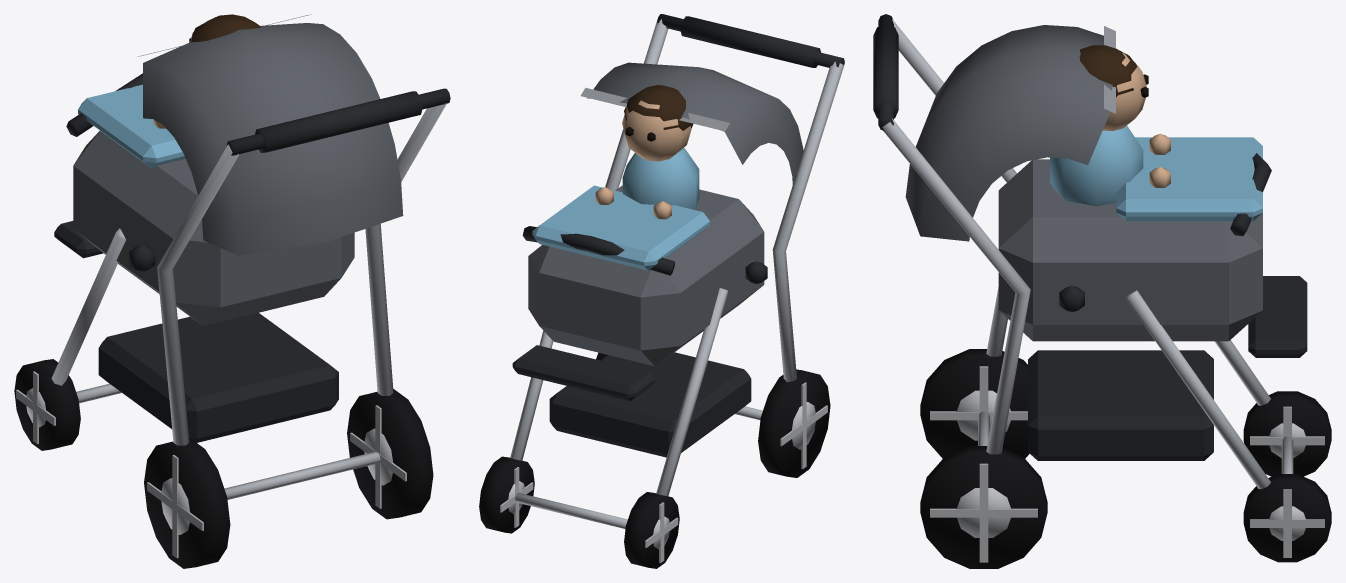
Rendered from stroller_grey.glb.
3 renders of one model, left to right at view 1: azimuth 30°, elevation 25°; view 2: azimuth 150°, elevation 25°; view 3: azimuth 270°, elevation 25°, orthographic. The views are drawn at different scales.
Visible parts, largest first — view 1: Body, Wheel_RL, Wheel_RR, Wheel_FL; view 2: Body, Wheel_RL, Wheel_FL, Wheel_FR; view 3: Body, Wheel_RR, Wheel_RL, Wheel_FR, Wheel_FL.
Boxes of the visible parts, x1,y1,x2,y2 form: Body: [51, 14, 450, 499]; Wheel_RL: [144, 438, 230, 568]; Wheel_RR: [347, 389, 433, 519]; Wheel_FL: [14, 359, 80, 450]; Body: [510, 14, 844, 528]; Wheel_RL: [758, 369, 830, 477]; Wheel_FL: [624, 492, 679, 568]; Wheel_FR: [479, 456, 534, 533]; Body: [873, 14, 1307, 489]; Wheel_RR: [920, 446, 1047, 568]; Wheel_RL: [920, 349, 1029, 458]; Wheel_FR: [1243, 474, 1331, 562]; Wheel_FL: [1243, 391, 1331, 476].
Size of the model in its own units: 0.528 by 1.05 by 0.936.
